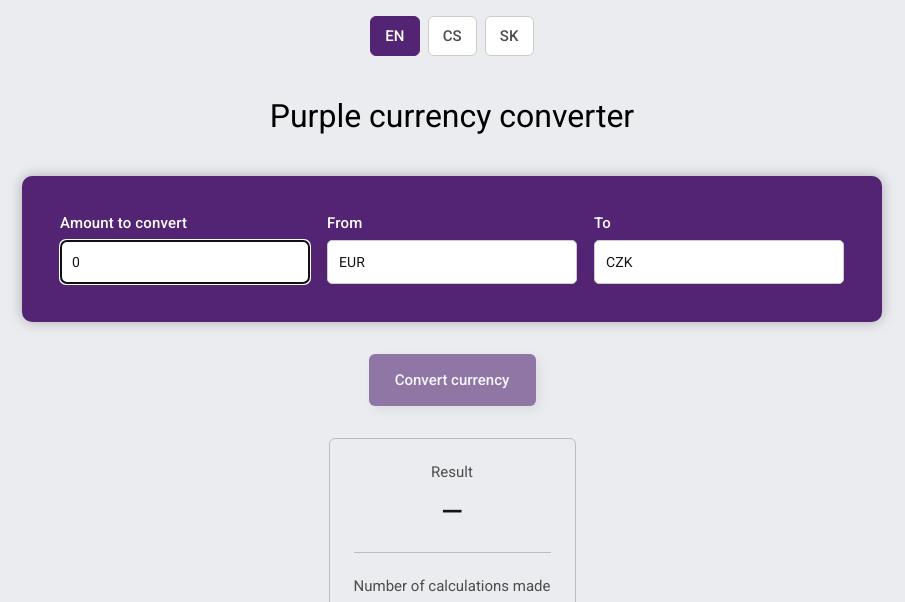
Test: the in-flight announcement and the error placements (§10) › renders an amount 400 at the amount field
The width and height of the screenshot is (905, 602).
In the field labelled "Amount to convert": (185, 262) [60, 240, 310, 284], type "100"
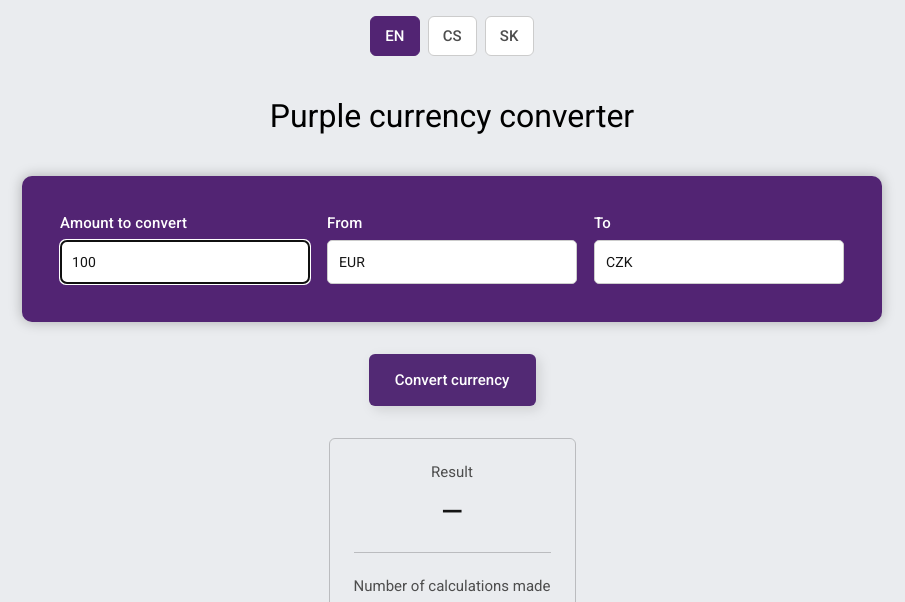
Click the button "Convert currency": (452, 380) [368, 354, 536, 406]
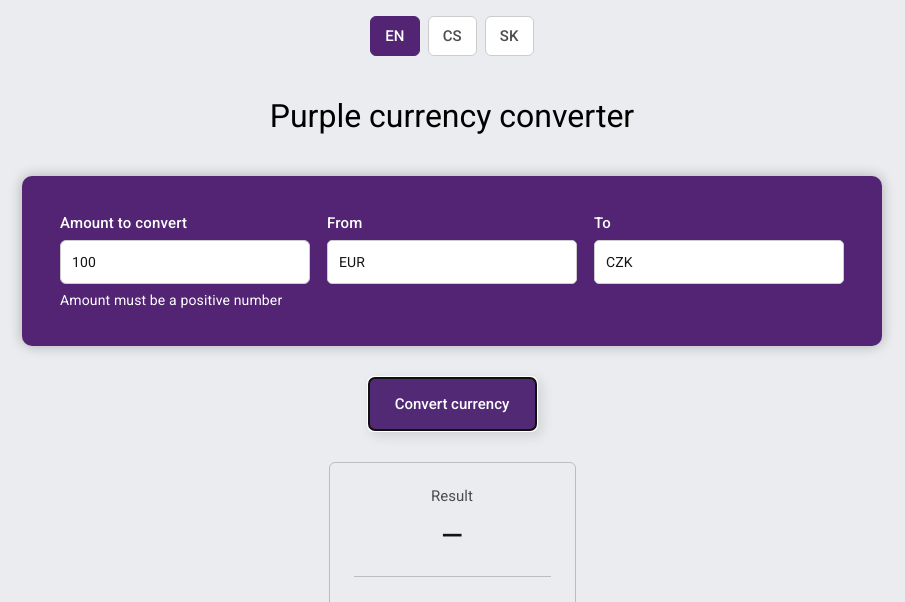
expect the message reads "Amount must be a positive number": met, box [60, 292, 282, 308]
